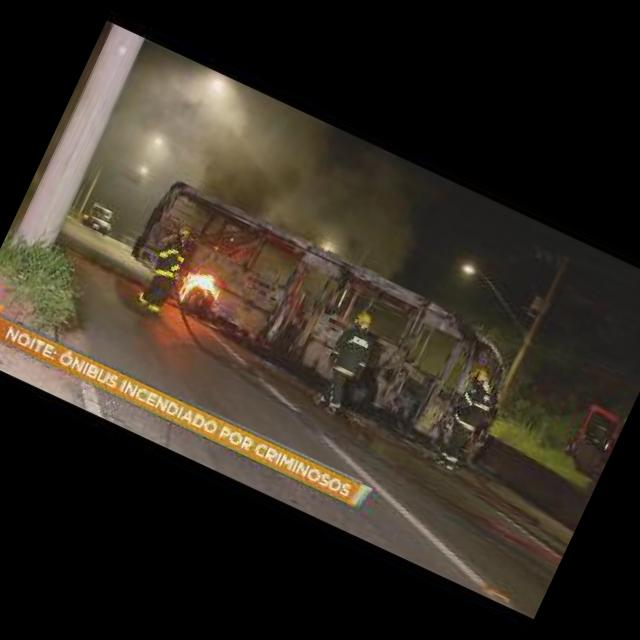fire: (170, 262, 226, 314)
smoke: (100, 44, 448, 284)
